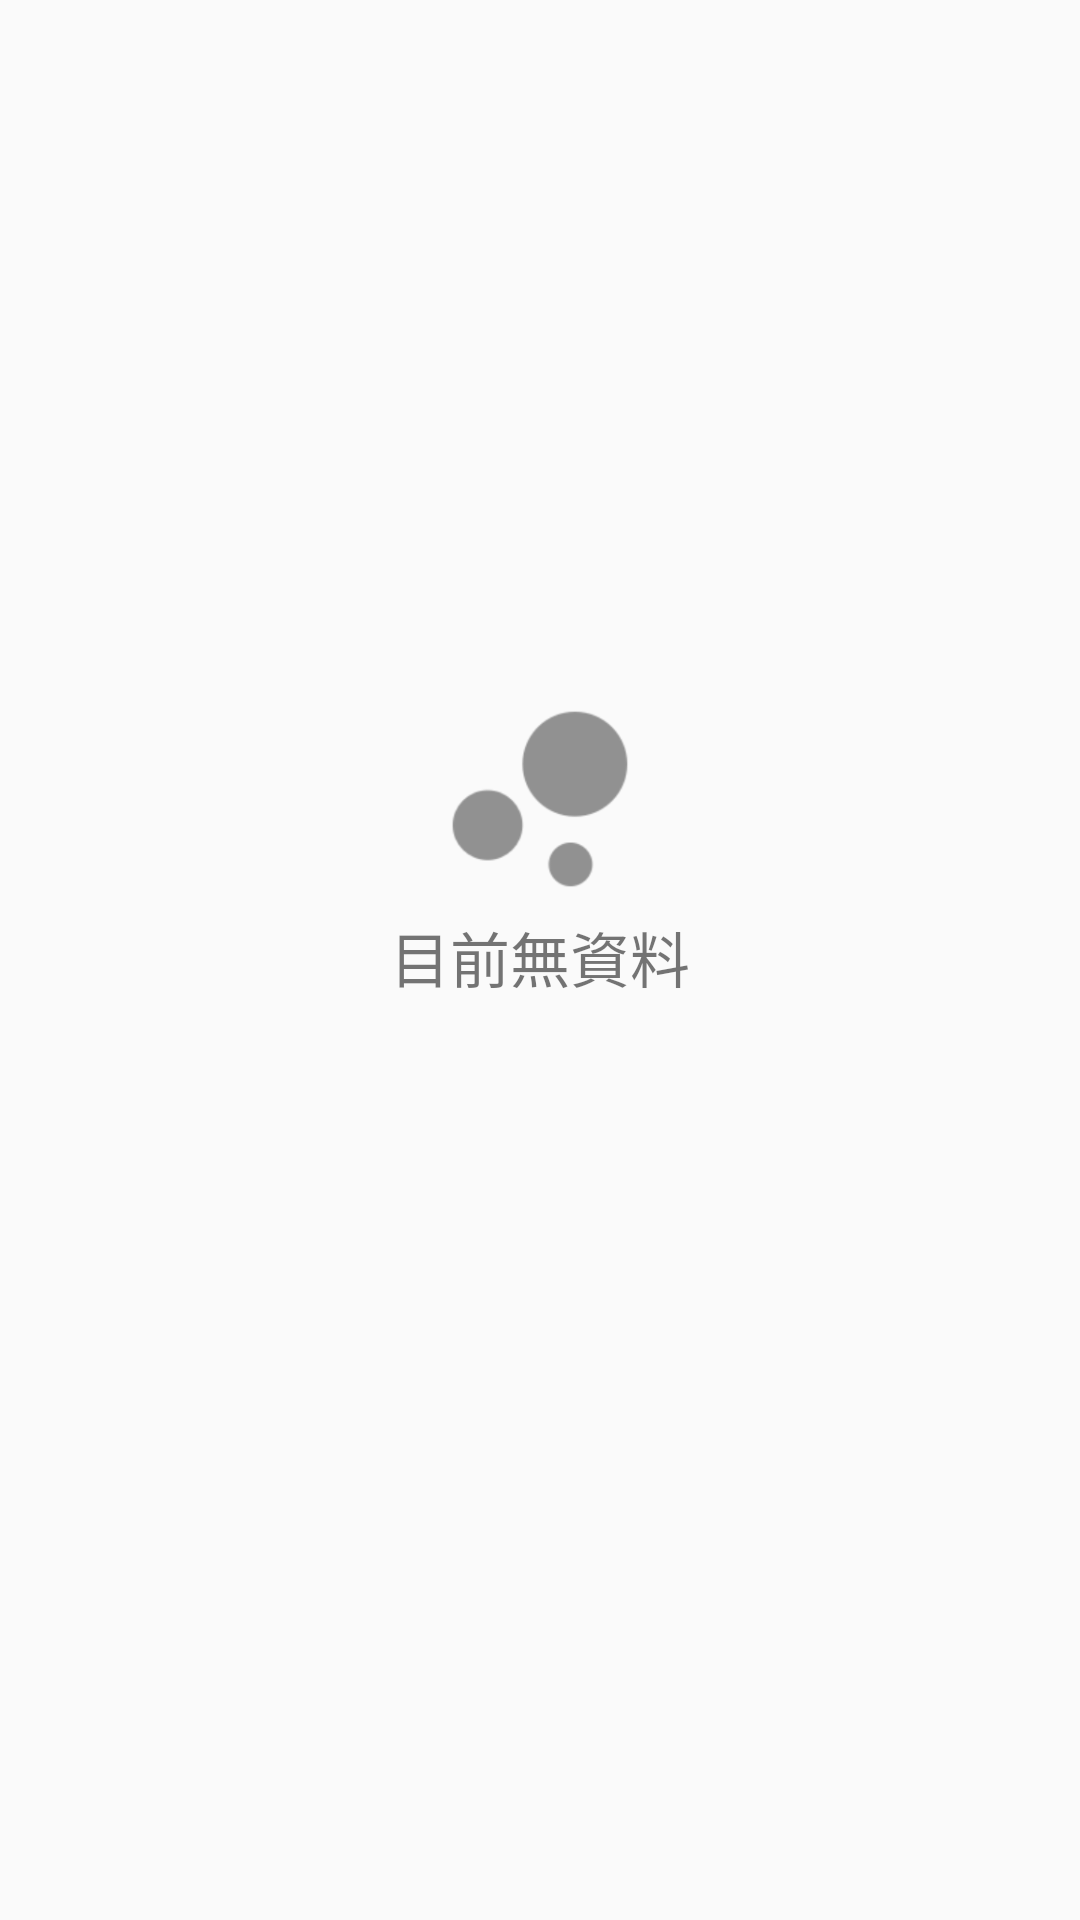

Named icons in this screenshot (1080 × 1920) and their centers, point (x, y):
bubble: point (540, 799)
